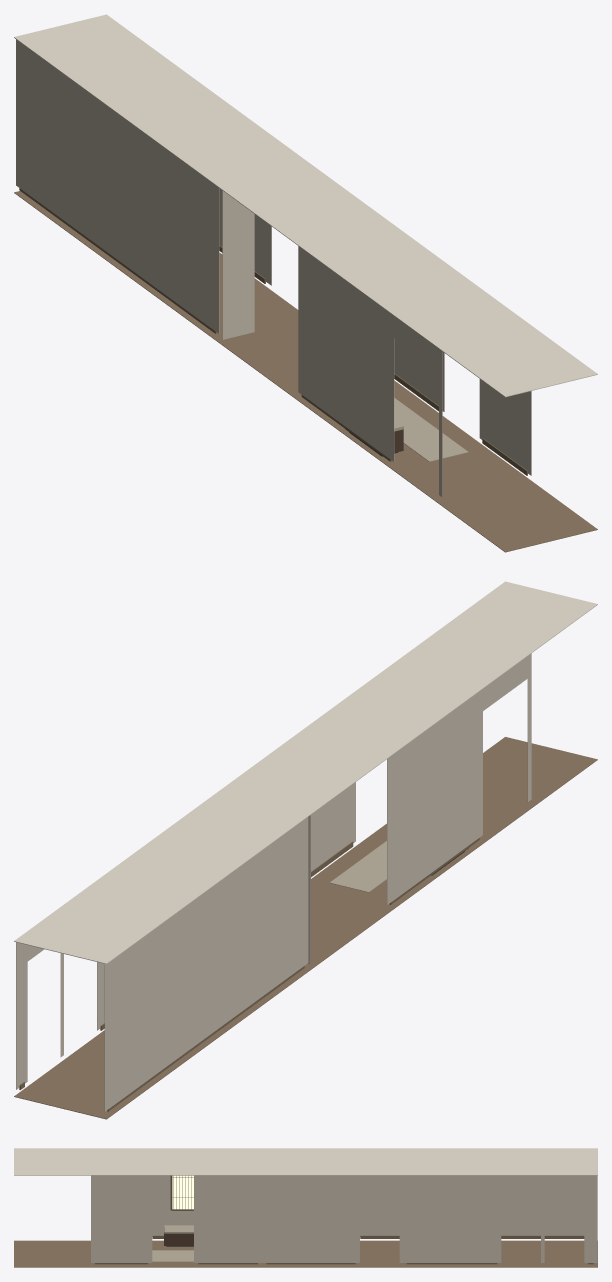
File: corridor-1.glb
3 views of the same model, one above another, from view 1: azimuth 30°, elevation 25°; view 2: azimuth 150°, elevation 25°; view 3: azimuth 270°, elevation 25° (orthographic). The views are drawn at different scales.
Visible parts, largest first — view 1: DESIGN | Entrance coordinated ceiling, DESIGN | Entrance paired wall finish, DESIGN | Entrance floor finish, DESIGN | Entrance paired wall finish.003, DESIGN | Arch approach finish, DESIGN | Entrance paired wall finish.013, DESIGN | Entrance quiet runner, DESIGN | Entrance paired wall finish.012, DESIGN | Entrance paired wall finish.006, DESIGN | Entrance paired wall finish.002; view 2: DESIGN | Entrance coordinated ceiling, DESIGN | Entrance paired wall finish, DESIGN | Entrance floor finish, DESIGN | Entrance paired wall finish.003, DESIGN | Entrance paired wall finish.012, DESIGN | Entrance paired wall finish.005, DESIGN | Entrance quiet runner, DESIGN | Entrance paired wall finish.002, DESIGN | Entrance paired wall finish.001; view 3: DESIGN | Entrance coordinated ceiling, DESIGN | Entrance paired wall finish.006, DESIGN | Entrance paired wall finish.009, DESIGN | Entrance floor finish, DESIGN | Entrance paired wall finish.012, DESIGN | Entrance paired wall finish, DESIGN | Entrance paired wall finish.013, DESIGN | Entrance paired wall finish.003, DESIGN | Entrance paired wall finish.005, DESIGN | Kumiko opal diffuser, DESIGN | Entrance paired wall finish.007, DESIGN | Entrance paired wall finish.010 (+8 smaller).
Boxes of the visible parts, bbox=[...] form: DESIGN | Entrance coordinated ceiling: bbox=[14, 14, 597, 397]; DESIGN | Entrance paired wall finish: bbox=[16, 39, 219, 333]; DESIGN | Entrance floor finish: bbox=[14, 191, 597, 552]; DESIGN | Entrance paired wall finish.003: bbox=[298, 246, 394, 461]; DESIGN | Arch approach finish: bbox=[222, 190, 254, 339]; DESIGN | Entrance paired wall finish.013: bbox=[479, 379, 531, 475]; DESIGN | Entrance quiet runner: bbox=[394, 398, 468, 461]; DESIGN | Entrance paired wall finish.012: bbox=[394, 339, 444, 411]; DESIGN | Entrance paired wall finish.006: bbox=[219, 188, 268, 283]; DESIGN | Entrance paired wall finish.002: bbox=[394, 316, 438, 370]; DESIGN | Entrance coordinated ceiling: bbox=[14, 581, 597, 964]; DESIGN | Entrance paired wall finish: bbox=[104, 817, 308, 1111]; DESIGN | Entrance floor finish: bbox=[14, 737, 597, 1119]; DESIGN | Entrance paired wall finish.003: bbox=[387, 689, 482, 904]; DESIGN | Entrance paired wall finish.012: bbox=[311, 782, 355, 871]; DESIGN | Entrance paired wall finish.005: bbox=[16, 942, 27, 1089]; DESIGN | Entrance quiet runner: bbox=[329, 841, 386, 892]; DESIGN | Entrance paired wall finish.002: bbox=[483, 656, 527, 710]; DESIGN | Entrance paired wall finish.001: bbox=[527, 653, 531, 801]; DESIGN | Entrance coordinated ceiling: bbox=[14, 1148, 597, 1175]; DESIGN | Entrance paired wall finish.006: bbox=[402, 1175, 501, 1262]; DESIGN | Entrance paired wall finish.009: bbox=[262, 1175, 359, 1262]; DESIGN | Entrance floor finish: bbox=[14, 1240, 597, 1267]; DESIGN | Entrance paired wall finish.012: bbox=[194, 1175, 262, 1262]; DESIGN | Entrance paired wall finish: bbox=[360, 1176, 584, 1236]; DESIGN | Entrance paired wall finish.013: bbox=[91, 1175, 152, 1262]; DESIGN | Entrance paired wall finish.003: bbox=[152, 1175, 193, 1236]; DESIGN | Entrance paired wall finish.005: bbox=[584, 1175, 597, 1262]; DESIGN | Kumiko opal diffuser: bbox=[172, 1175, 193, 1209]; DESIGN | Entrance paired wall finish.007: bbox=[501, 1175, 540, 1191]; DESIGN | Entrance paired wall finish.010: bbox=[360, 1175, 399, 1191].
Bounding box in the file's own units: 1.7 × 2.73 × 15.61.
